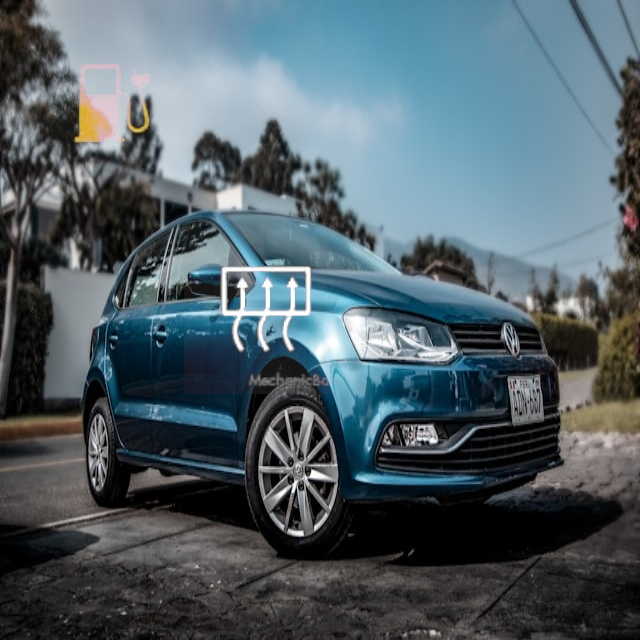symbol: (184, 228, 350, 394), (35, 26, 192, 183)
